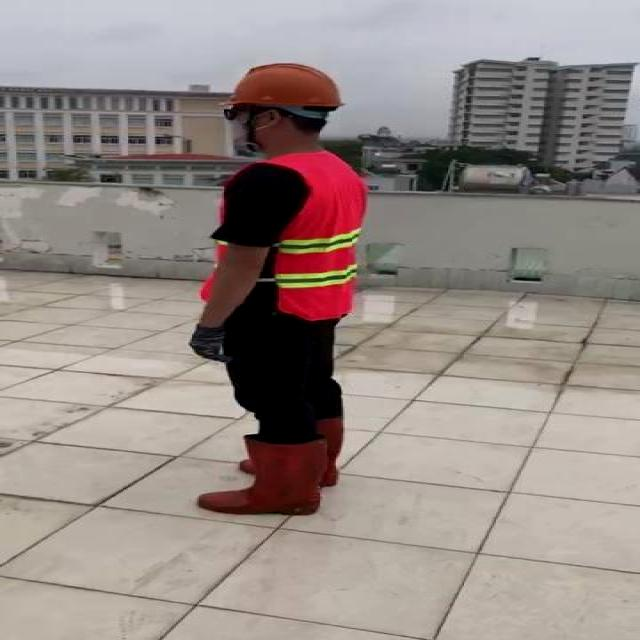boots: (197, 435, 329, 516), (220, 412, 358, 488)
hand_glove: (185, 326, 231, 371)
head_helmet: (222, 61, 348, 110)
person: (179, 62, 383, 534)
vest: (199, 150, 366, 319)
